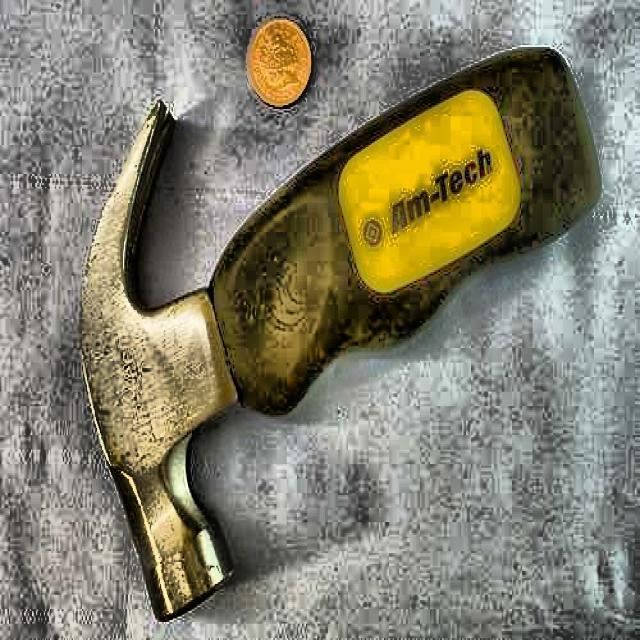hammer: (79, 45, 611, 623)
